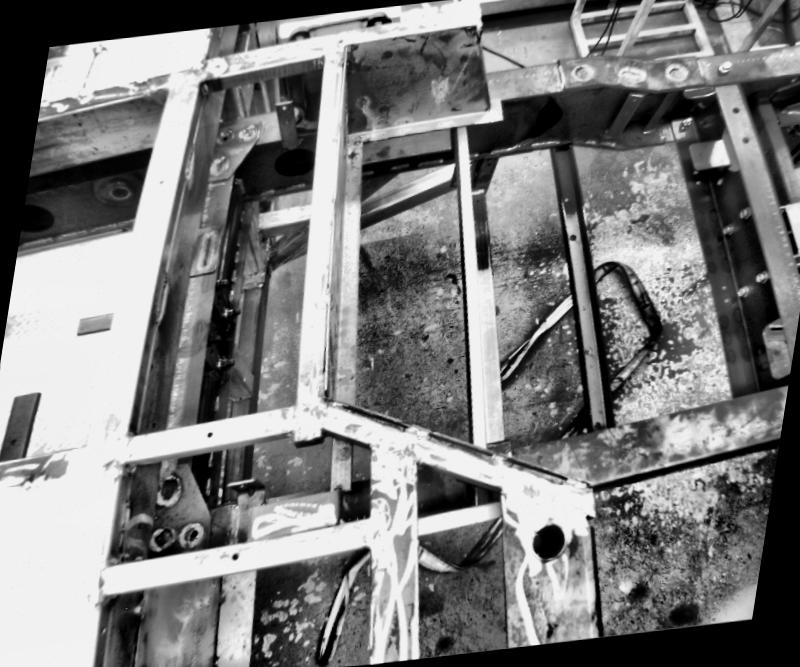bolt: (212, 356, 235, 370), (220, 306, 242, 320), (212, 275, 230, 292), (716, 56, 733, 74), (750, 267, 767, 284), (674, 115, 692, 130), (718, 222, 736, 236), (736, 206, 750, 220), (734, 286, 748, 298)
bracket: (214, 469, 277, 549), (749, 313, 796, 385), (676, 128, 734, 186), (0, 390, 40, 467), (264, 94, 309, 154), (68, 308, 114, 338)
hole: (524, 520, 568, 562), (20, 198, 55, 238), (104, 180, 132, 200), (200, 428, 215, 442), (4, 434, 20, 447), (226, 550, 240, 562), (582, 346, 592, 357), (591, 418, 600, 428), (188, 529, 197, 538), (566, 233, 575, 242), (730, 106, 740, 114), (559, 194, 568, 202), (722, 296, 730, 304), (740, 137, 748, 143), (718, 285, 724, 290), (280, 105, 286, 109), (156, 180, 161, 184), (474, 198, 477, 202)
